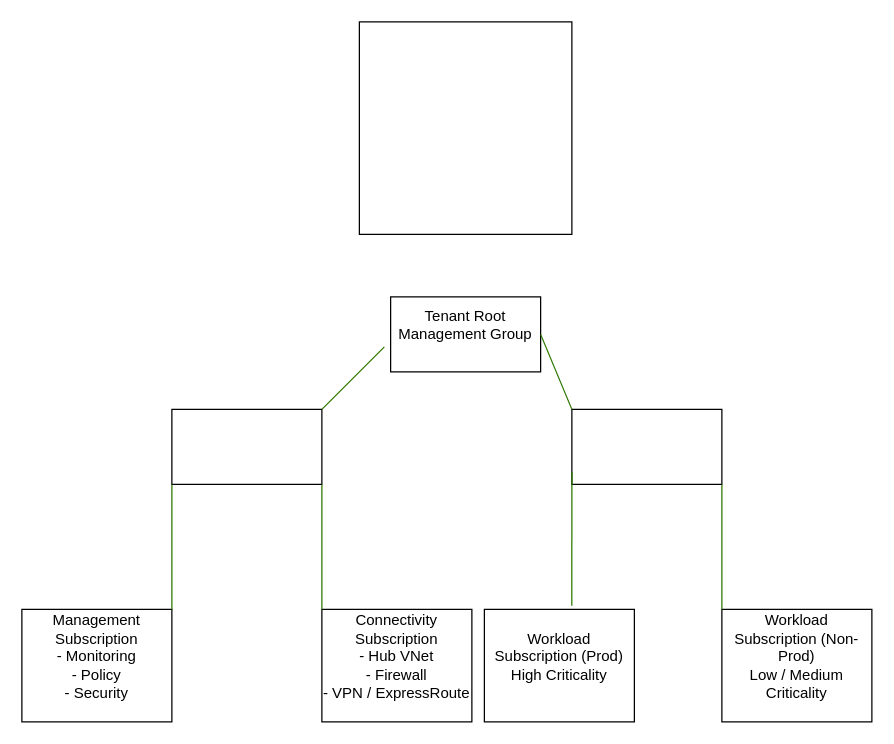
Image size: 894x744. Some labels were removed from this diagram. Here are the shapes that lost their labels. From the top down, the centre of each, then its label:
At point (465, 127): "Azure Tenant (Entra ID)".
At point (246, 446): "Platform Management Group".
At point (646, 446): "Workload Management Group".
